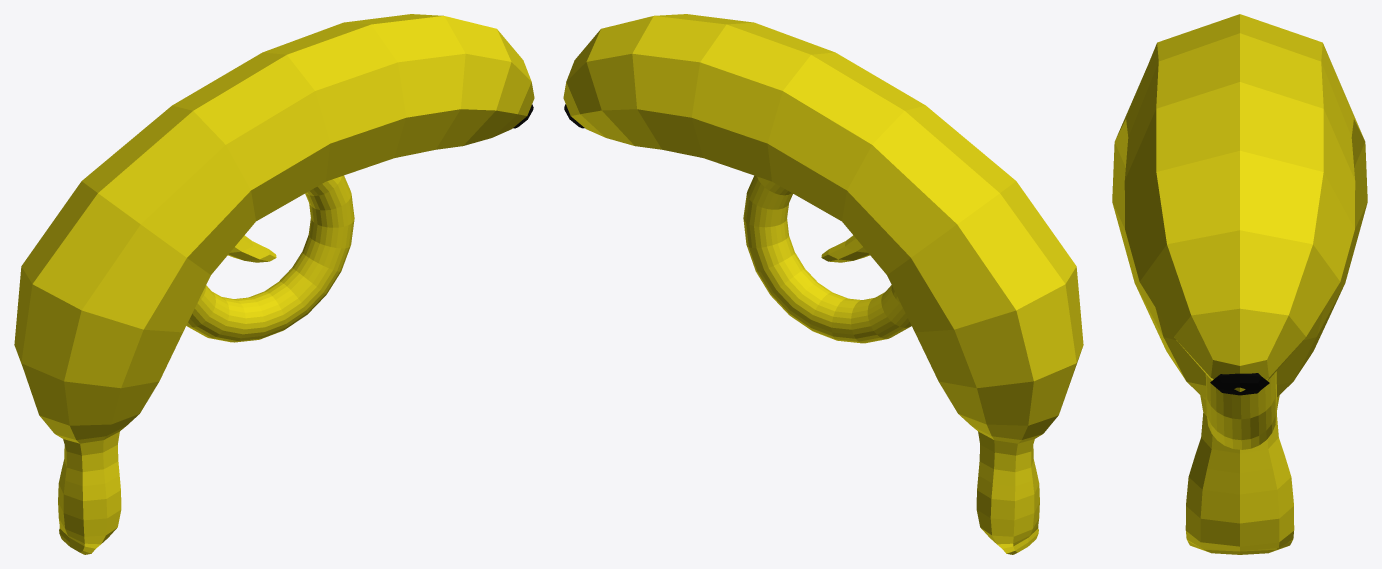
Rendered from banana_gun.glb.
3 renders of one model, left to right at view 1: azimuth 30°, elevation 25°; view 2: azimuth 150°, elevation 25°; view 3: azimuth 270°, elevation 25°, orthographic. The views are drawn at different scales.
Parts seen in each view (by area): view 1: Cube.001_0; view 2: Cube.001_0; view 3: Cube.001_0.
Boxes of the visible parts, bbox=[...] form: Cube.001_0: bbox=[14, 14, 534, 554]; Cube.001_0: bbox=[563, 14, 1083, 554]; Cube.001_0: bbox=[1112, 14, 1367, 554].
Size of the model in its own units: 13.14 by 11.13 by 3.71.
